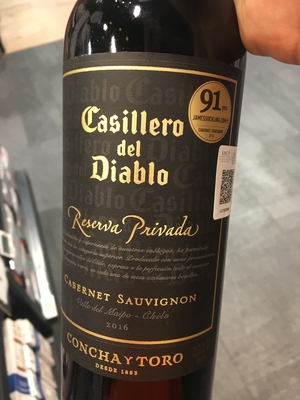casillero del diablo reserva privada cabernet sauvignon: (52, 11, 253, 400)
